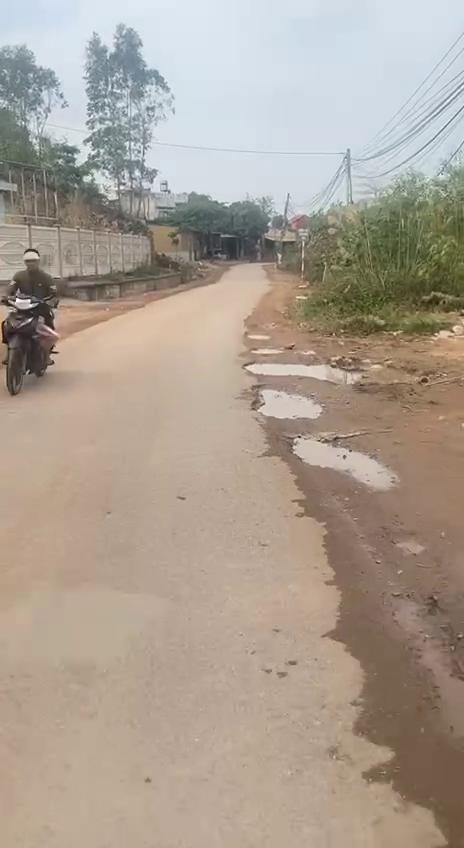pothole: (284, 430, 404, 499), (244, 352, 358, 392), (250, 376, 328, 427)
